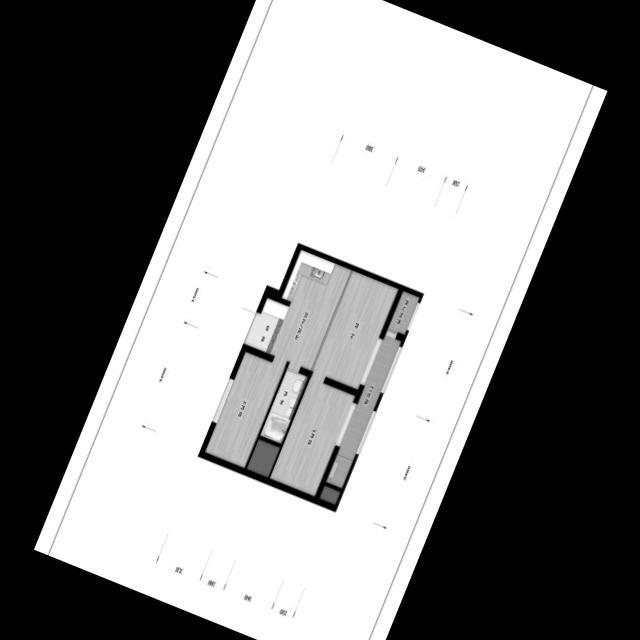background: (33, 0, 607, 640)
space_balconi: (326, 334, 401, 487)
space_bedroom: (269, 377, 355, 495), (205, 351, 285, 467)
space_front: (245, 297, 289, 353)
space_kitchen: (270, 249, 351, 369)
space_living_room: (312, 270, 398, 389)
space_other: (246, 439, 280, 477), (319, 485, 340, 504)
space_outdoor_room: (388, 290, 419, 334)
space_toilet: (260, 368, 308, 443)
